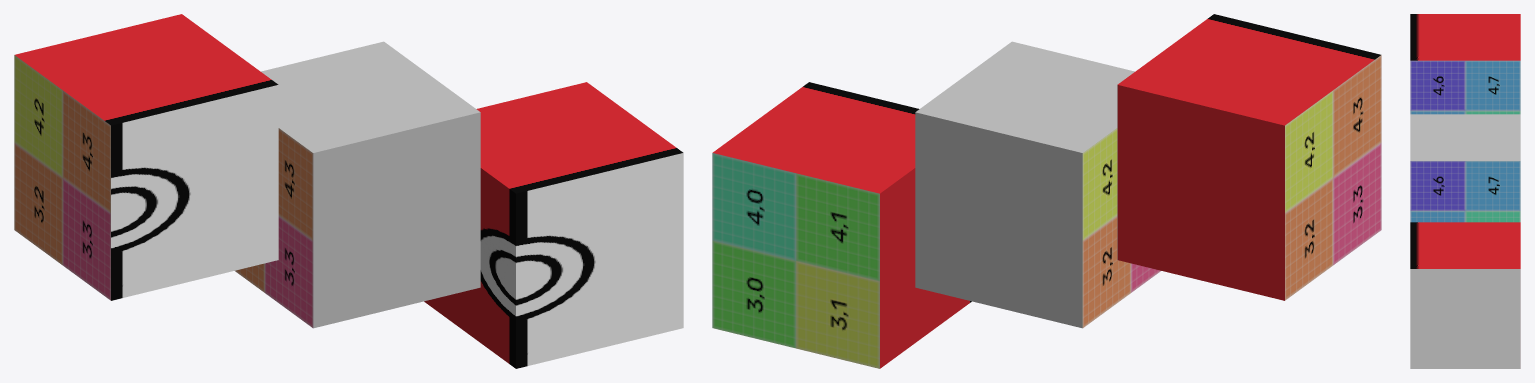
Rendered from multi.obj.
3 renders of one model, left to right at view 1: azimuth 30°, elevation 25°; view 2: azimuth 150°, elevation 25°; view 3: azimuth 270°, elevation 25°, orthographic. The views are drawn at different scales.
Parts seen in each view (by area): view 1: 立方体.001, 立方体.002, 立方体; view 2: 立方体.001, 立方体.002, 立方体; view 3: 立方体.002, 立方体, 立方体.001.
Boxes of the visible parts, x1,y1,x2,y2 form: 立方体.001: [14, 14, 278, 300]; 立方体.002: [424, 82, 683, 368]; 立方体: [235, 41, 480, 328]; 立方体.001: [1117, 14, 1381, 300]; 立方体.002: [712, 82, 971, 368]; 立方体: [915, 41, 1160, 328]; 立方体.002: [1410, 222, 1520, 368]; 立方体: [1410, 114, 1520, 222]; 立方体.001: [1410, 14, 1520, 114].
Bounding box in the file's own units: 6.84 × 3.9 × 2.
Materials: 4 (2 with a texture image).
